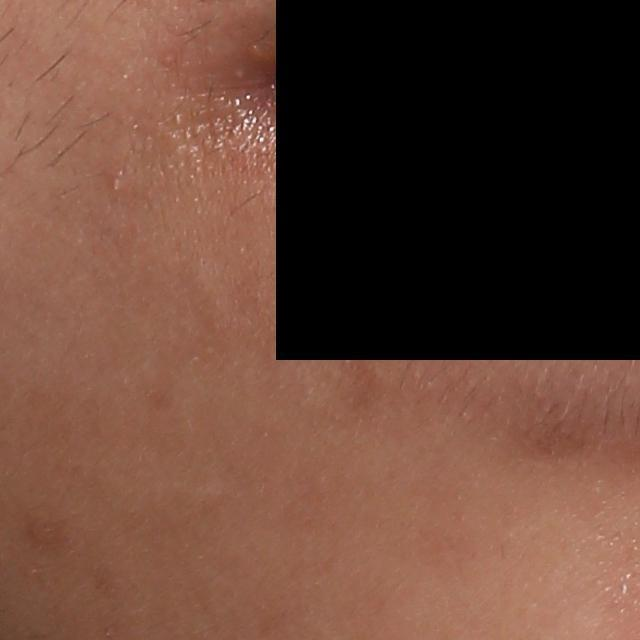comedo: (105, 173, 121, 195)
